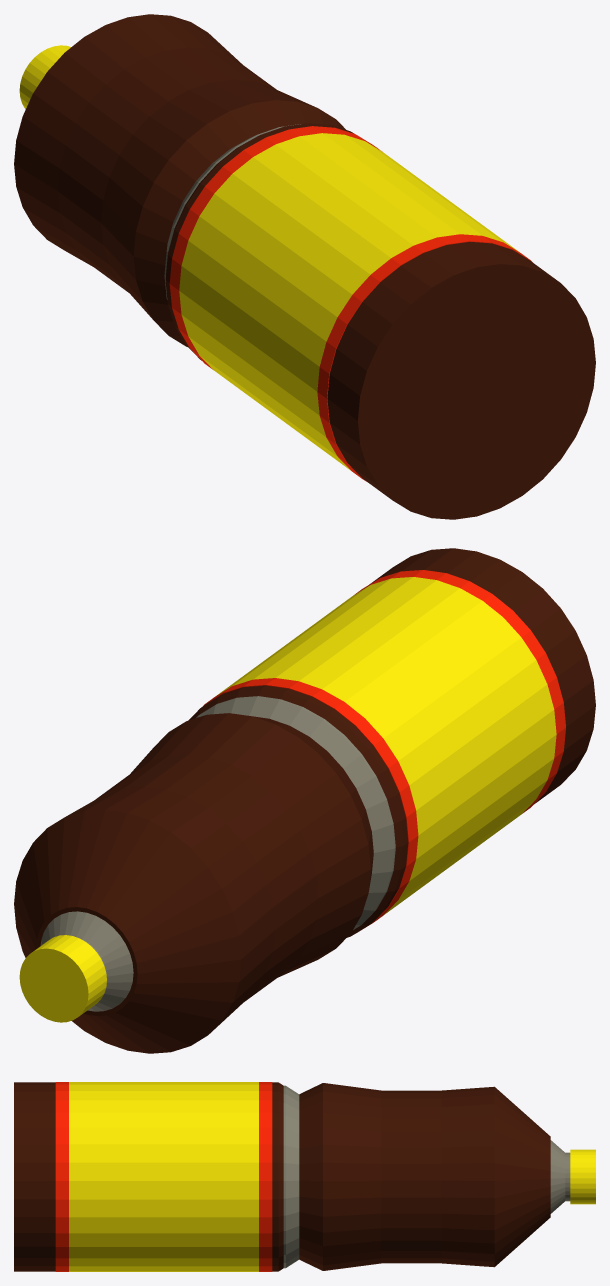
The model's file is nampla.fbx.
The picture shows the model from 3 angles, top to bottom: view 1: azimuth 30°, elevation 25°; view 2: azimuth 150°, elevation 25°; view 3: azimuth 270°, elevation 25°; orthographic projection. The views are drawn at different scales.
Visible parts, largest first — view 1: Cylinder.005; view 2: Cylinder.005; view 3: Cylinder.005.
Boxes of the visible parts, box(x1,y1,x2,y2) form: Cylinder.005: box(14, 14, 595, 519); Cylinder.005: box(14, 548, 595, 1053); Cylinder.005: box(14, 1082, 595, 1271).
Size of the model in its own units: 128 by 128 by 393.
